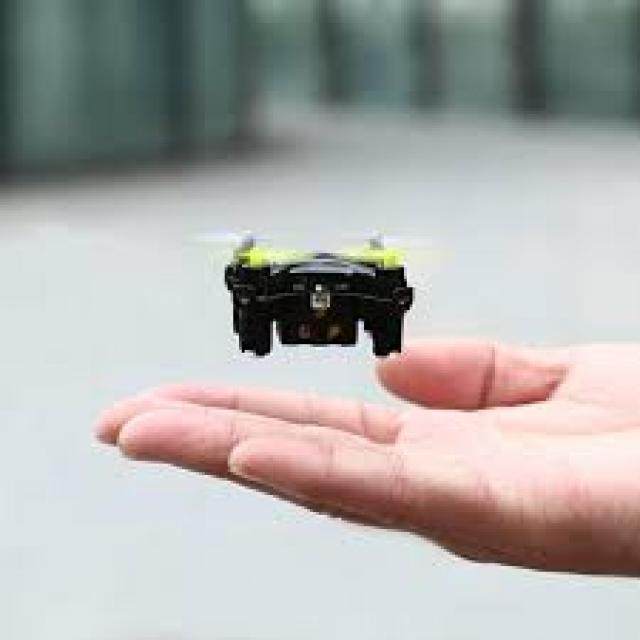drones: (182, 204, 452, 374)
